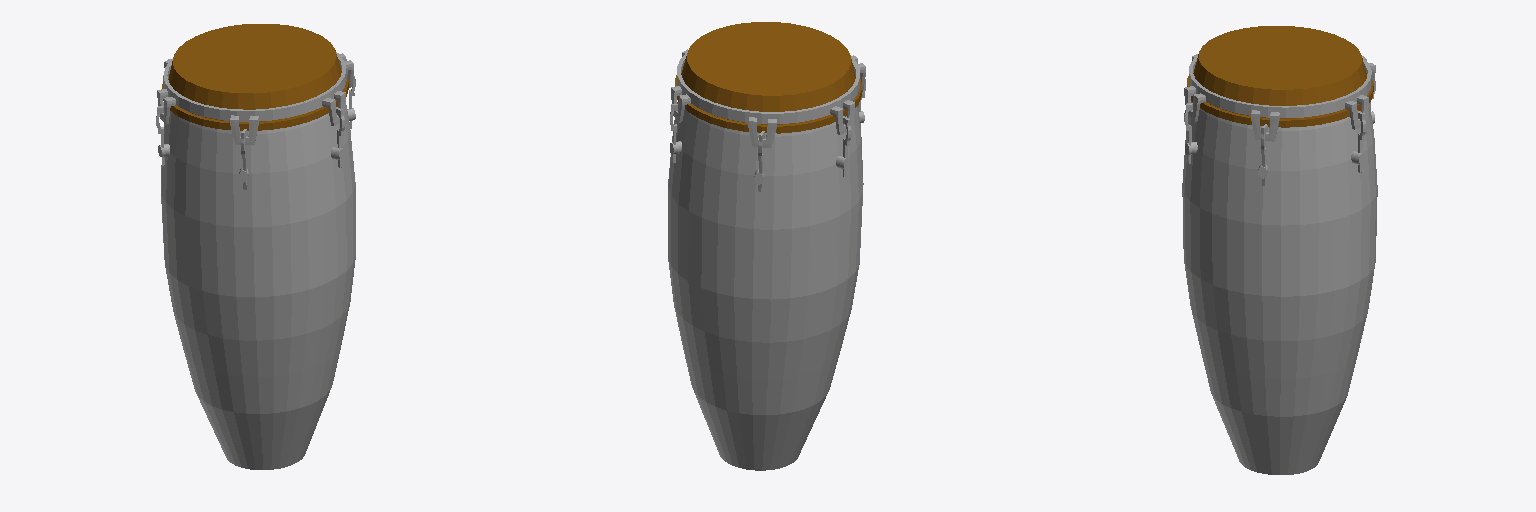
The model's file is conga-hand-drum.obj.
3 views of the same model, side by side, from view 1: azimuth 30°, elevation 25°; view 2: azimuth 150°, elevation 25°; view 3: azimuth 270°, elevation 25° (orthographic).
Visible parts, largest first — view 1: Circle_007_Circle_008_Circle_007_Circle_008, Circle_004_smothsidesk_Circle_004_smothsidesk, Circle_003_Circle_007_Circle_003_Circle_007, Cylinder_011_Cylinder_011, Cylinder_009_Cylinder_009.001, Cylinder_013_Cylinder_013; view 2: Circle_007_Circle_008_Circle_007_Circle_008, Circle_004_smothsidesk_Circle_004_smothsidesk, Circle_003_Circle_007_Circle_003_Circle_007, Cylinder_013_Cylinder_013, Cylinder_008_Cylinder_008, Cylinder_010_Cylinder_010; view 3: Circle_007_Circle_008_Circle_007_Circle_008, Circle_004_smothsidesk_Circle_004_smothsidesk, Circle_003_Circle_007_Circle_003_Circle_007, Cylinder_012_Cylinder_012.001, Cylinder_010_Cylinder_010, Cylinder_009_Cylinder_009.001.
Part boxes in pixels (x1,y1,x2,y2): Circle_007_Circle_008_Circle_007_Circle_008: (161, 105, 355, 469); Circle_004_smothsidesk_Circle_004_smothsidesk: (162, 24, 348, 130); Circle_003_Circle_007_Circle_003_Circle_007: (163, 52, 346, 121); Cylinder_011_Cylinder_011: (230, 115, 258, 189); Cylinder_009_Cylinder_009.001: (322, 91, 345, 167); Cylinder_013_Cylinder_013: (156, 89, 175, 165); Circle_007_Circle_008_Circle_007_Circle_008: (668, 102, 863, 470); Circle_004_smothsidesk_Circle_004_smothsidesk: (675, 22, 861, 133); Circle_003_Circle_007_Circle_003_Circle_007: (677, 52, 859, 123); Cylinder_013_Cylinder_013: (830, 100, 854, 176); Cylinder_008_Cylinder_008: (748, 117, 776, 191); Cylinder_010_Cylinder_010: (670, 86, 690, 162); Circle_007_Circle_008_Circle_007_Circle_008: (1182, 101, 1377, 474); Circle_004_smothsidesk_Circle_004_smothsidesk: (1187, 26, 1373, 127); Circle_003_Circle_007_Circle_003_Circle_007: (1189, 55, 1371, 117); Cylinder_012_Cylinder_012.001: (1251, 110, 1279, 186); Cylinder_010_Cylinder_010: (1345, 95, 1368, 172); Cylinder_009_Cylinder_009.001: (1184, 86, 1205, 163).
Size of the model in its own units: 0.8187 by 1.71 by 0.7554.